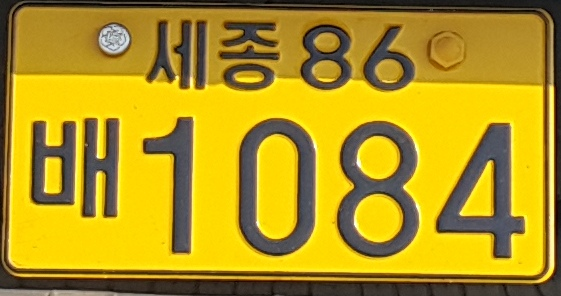0: (236, 117, 318, 256)
1: (134, 114, 217, 254)
4: (435, 122, 525, 259)
6: (362, 22, 417, 93)
8: (336, 120, 420, 257), (300, 23, 352, 91)
배: (27, 116, 120, 219)
세종_H: (142, 16, 281, 92)
